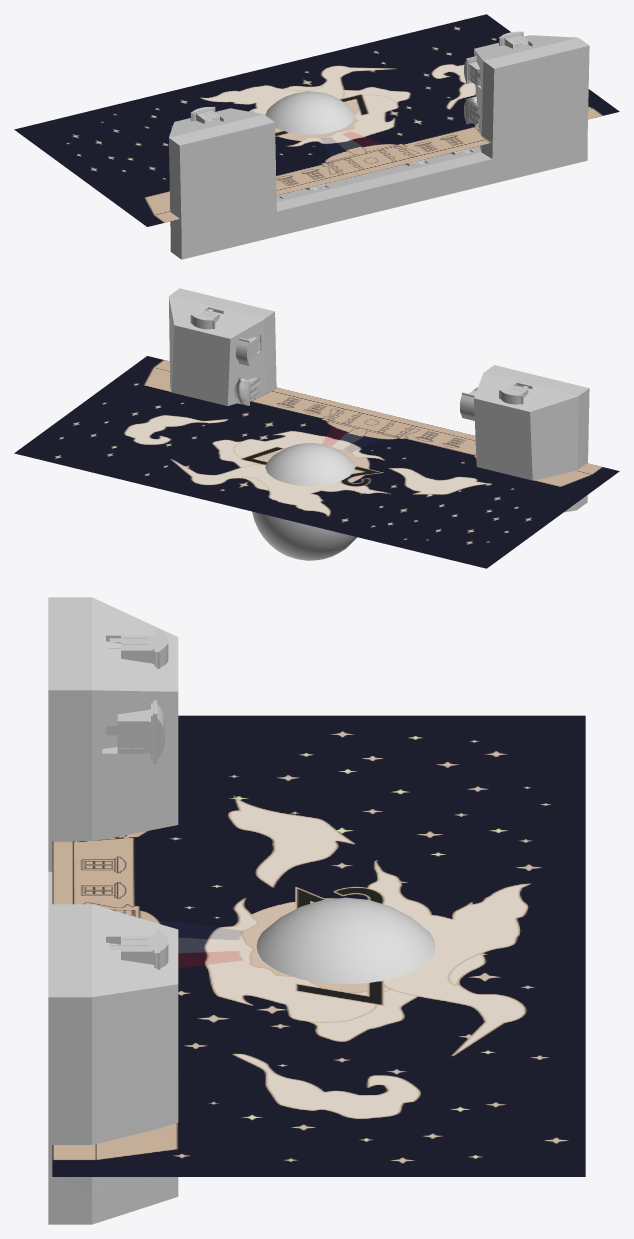
The model's file is parlement2.glb.
3 views of the same model, one above another, from view 1: azimuth 30°, elevation 25°; view 2: azimuth 150°, elevation 25°; view 3: azimuth 270°, elevation 25° (orthographic). The views are drawn at different scales.
Visible parts, largest first — view 1: carte de voeux (2), Cube, Sphere, Cube.001, Cube.004, Cube.005; view 2: carte de voeux (2), Cube, Sphere, Cube.001, Cube.004, Cube.005; view 3: carte de voeux (2), Cube, Sphere, Cube.001, Cube.004.
Part boxes in pixels (box(x1,y1,x2,y2)): carte de voeux (2): box(14, 14, 619, 226); Cube: box(169, 35, 589, 259); Sphere: box(265, 91, 354, 134); Cube.001: box(190, 31, 532, 123); Cube.004: box(249, 56, 481, 112); Cube.005: box(464, 96, 480, 128); carte de voeux (2): box(14, 356, 619, 568); Cube: box(169, 288, 589, 512); Sphere: box(252, 443, 357, 560); Cube.001: box(190, 307, 532, 404); Cube.004: box(235, 335, 477, 420); Cube.005: box(234, 377, 260, 405); carte de voeux (2): box(52, 715, 585, 1176); Cube: box(48, 597, 178, 1224); Sphere: box(256, 897, 435, 984); Cube.001: box(106, 628, 168, 969); Cube.004: box(102, 700, 164, 922).
Bounding box in the file's own units: 2.05 × 0.687 × 1.01.
Materials: 1 (1 with a texture image).
